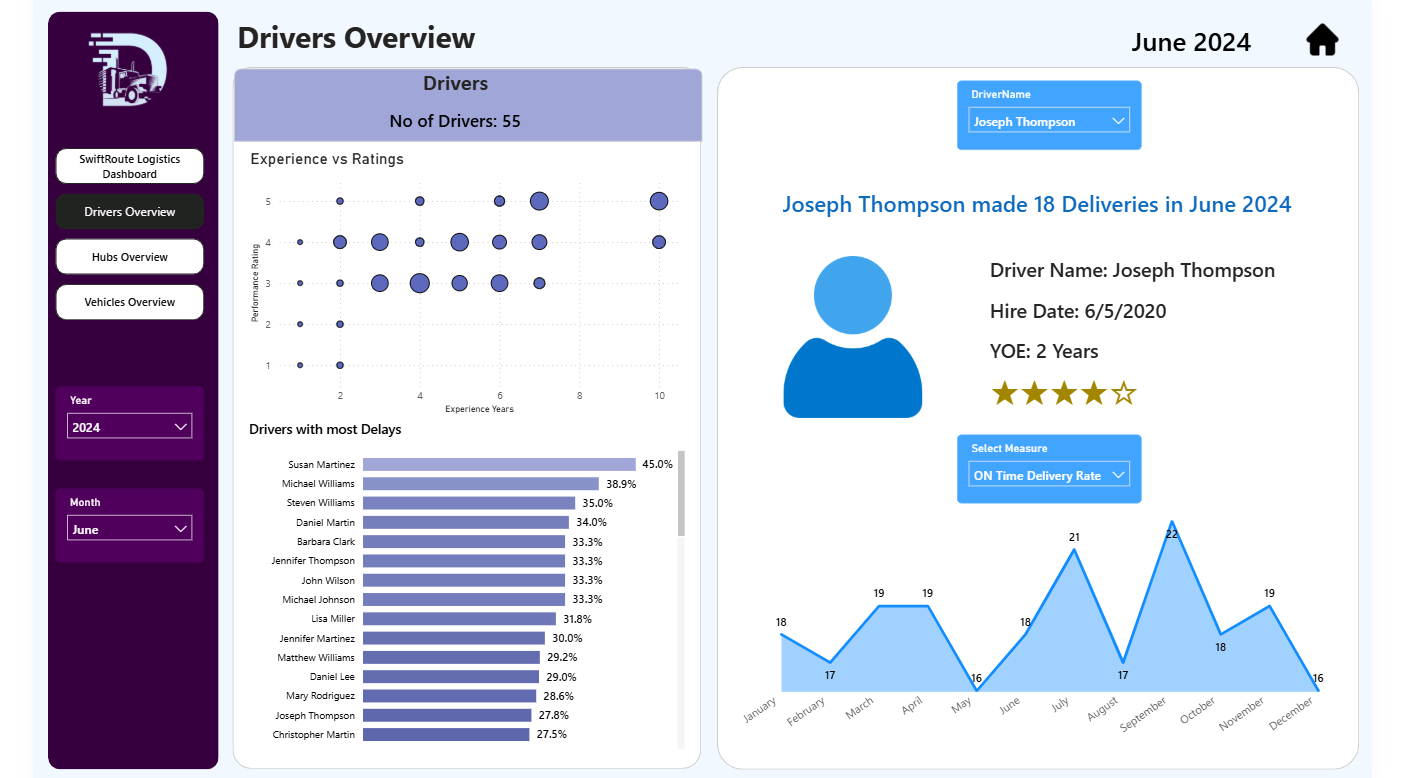

What the dashboard file says about the page in this screenshot:
{"tool":"powerbi","page":{"name":"Drivers Overview","canvas":[1450,850],"ordinal":1},"visuals":[{"type":"shape","box":[15.9,14.1,184.9,820.7],"z":0},{"type":"textbox","box":[216.1,14.3,567.9,60.7],"z":1000},{"type":"slicer","fields":{"Values":["Date Table.Year"]},"box":[25.1,420.1,160.7,80],"z":2000},{"type":"slicer","fields":{"Values":["Date Table.Month"]},"box":[25.1,530.8,160.7,80],"z":3000},{"type":"shape","box":[216.2,74.9,507.4,760],"z":4000},{"type":"shape","box":[217.4,75.9,507.3,79.4],"z":5000},{"type":"cardVisual","fields":{"Data":["Drivers.Number of Drivers"]},"box":[360.6,115.6,193.2,31.1],"z":6000},{"type":"textbox","box":[407.2,70.7,100.1,41.4],"z":7000},{"type":"scatterChart","title":"Experience vs Ratings","fields":{"X":["Drivers.Experience Years"],"Y":["Drivers.Performance Rating"],"Size":["Sum(Drivers.Experience Years)1"]},"box":[231.2,164.8,479.5,291.1],"z":8000},{"type":"barChart","title":"Drivers with most Delays","fields":{"Category":["Drivers.DriverName"],"Y":["Orders.Delayed Delivery Rate"]},"box":[229.1,456,481.7,361.8],"z":9000},{"type":"image","box":[29.3,29.3,148.4,103.5],"z":10000},{"type":"cardVisual","fields":{"Data":["Orders.Year Month Title"]},"box":[1145.6,22.4,219.1,44.9],"z":11000},{"type":"shape","box":[740.2,74.2,695.3,760.9],"z":12000},{"type":"slicer","fields":{"Values":["Drivers.DriverName"]},"box":[1000,90,200,75],"z":13000},{"type":"cardVisual","fields":{"Data":["Drivers.Drivers Title"]},"box":[756.8,195.5,661.4,52.3],"z":14000},{"type":"cardVisual","fields":{"Data":["Drivers.Driver Name Title","Drivers.Hire Date Title","Drivers.YOE","Drivers.Star Rating"]},"box":[1006.8,256.8,370.5,202.3],"z":15000},{"type":"image","box":[784.1,279.5,206.8,175],"z":16000},{"type":"areaChart","fields":{"Category":["Date Table.Date.Variation.Date Hierarchy.Month"],"Y":["Orders.Total Orders"]},"box":[757.4,552.1,660.8,265.7],"z":17000},{"type":"slicer","fields":{"Values":["Select Measure.Select Measure"]},"box":[1000,473.2,200,74.4],"z":18000},{"type":"image","box":[1378.5,27.6,34.5,34.5],"z":19000},{"type":"pageNavigator","box":[25,163,161.1,188],"z":20000}]}

Visuals, with their boxes on the page's 1450x850 design canvas (x1, y1, x2, y2). These are canvas units, not pixel positions in the 1402x778 screenshot, which may show the page scaled, cropped or inside an application window:
shape: 16,14,201,835
textbox: 216,14,784,75
slicer - Date Table.Year: 25,420,186,500
slicer - Date Table.Month: 25,531,186,611
shape: 216,75,724,835
shape: 217,76,725,155
cardVisual - Drivers.Number of Drivers: 361,116,554,147
textbox: 407,71,507,112
"Experience vs Ratings" scatterChart: 231,165,711,456
"Drivers with most Delays" barChart: 229,456,711,818
image: 29,29,178,133
cardVisual - Orders.Year Month Title: 1146,22,1365,67
shape: 740,74,1436,835
slicer - Drivers.DriverName: 1000,90,1200,165
cardVisual - Drivers.Drivers Title: 757,196,1418,248
cardVisual - Drivers.Driver Name Title x Drivers.Hire Date Title: 1007,257,1377,459
image: 784,280,991,454
areaChart - Date Table.Date.Variation.Date Hierarchy.Month x Orders.Total Orders: 757,552,1418,818
slicer - Select Measure.Select Measure: 1000,473,1200,548
image: 1378,28,1413,62
pageNavigator: 25,163,186,351
